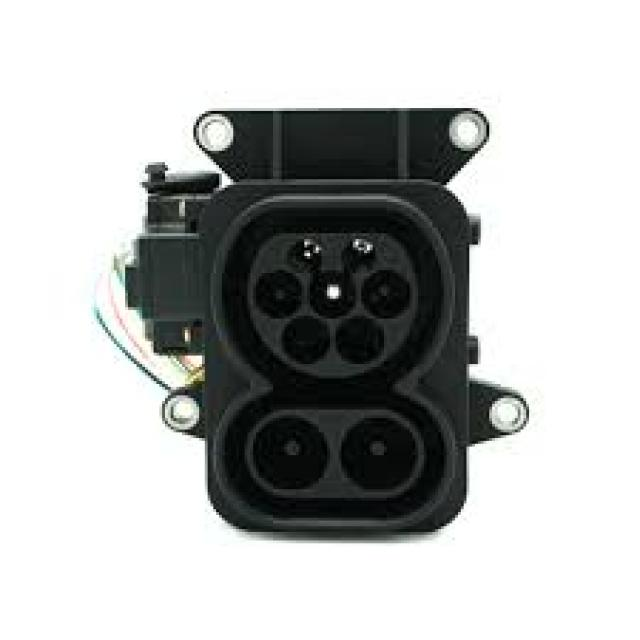inlet: (248, 232, 418, 377)
inlet-above-left: (286, 239, 322, 270)
inlet-above-right: (341, 239, 377, 271)
inlet-below-left: (283, 316, 329, 364)
inlet-below-right: (336, 314, 383, 364)
inlet-circle: (309, 270, 355, 316)
inlet-circle-left: (256, 271, 301, 316)
inlet-circle-right: (362, 269, 410, 317)
inlet-minus: (341, 418, 416, 489)
inlet-plus: (253, 416, 329, 488)
